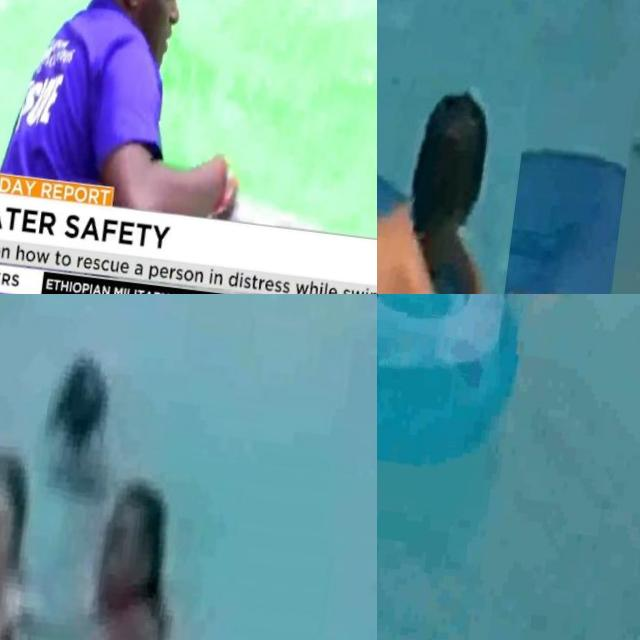drowning: (30, 336, 132, 491)
out of water: (17, 0, 262, 214)
swimming: (377, 51, 531, 294), (89, 492, 182, 640), (0, 452, 34, 640)
